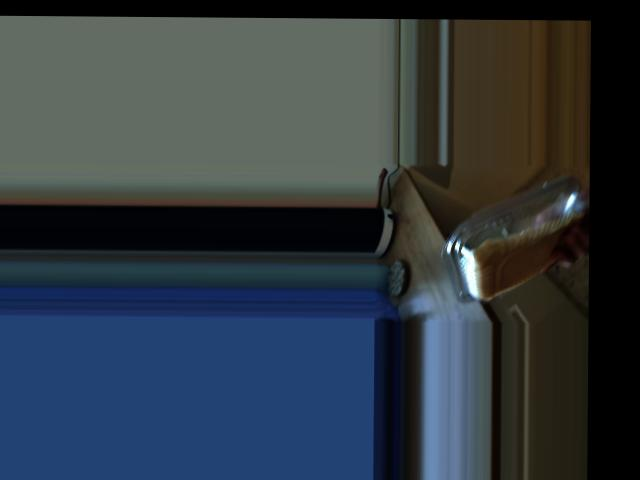cheese: (457, 196, 536, 286)
